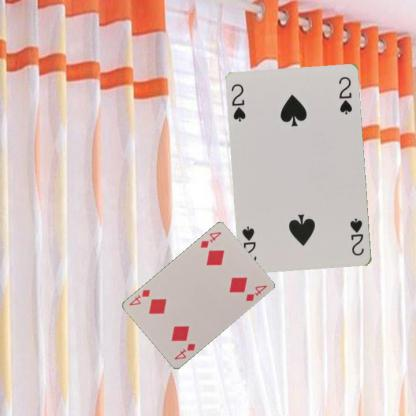2s: (347, 216, 366, 257), (229, 82, 247, 123)
4d: (172, 341, 197, 361), (198, 230, 222, 250)
